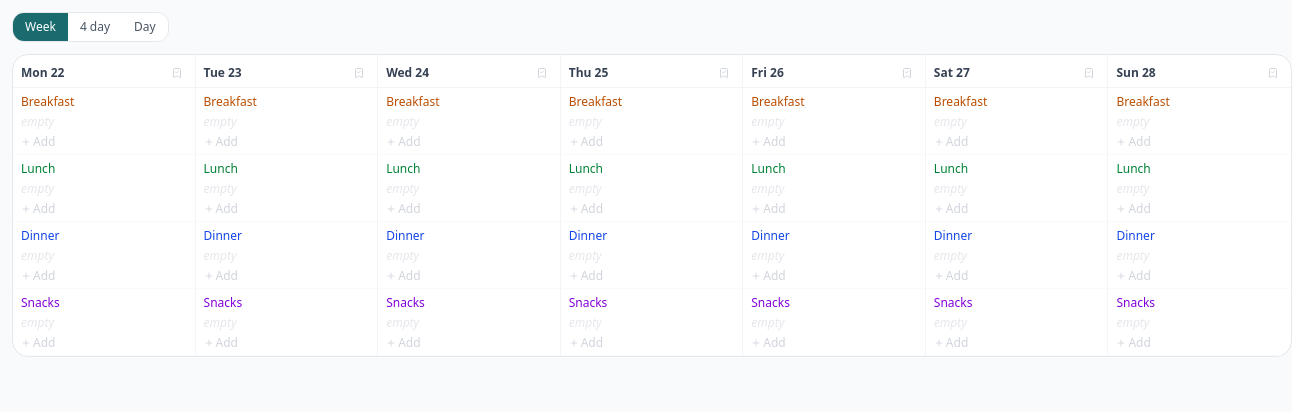
Test: CalendarView › add button opens inline form for product search (AC-054)
This screenshot has width=1292, height=412.
Click the button with aria-label "add item to dinner": point(38, 276) [21, 268, 55, 284]
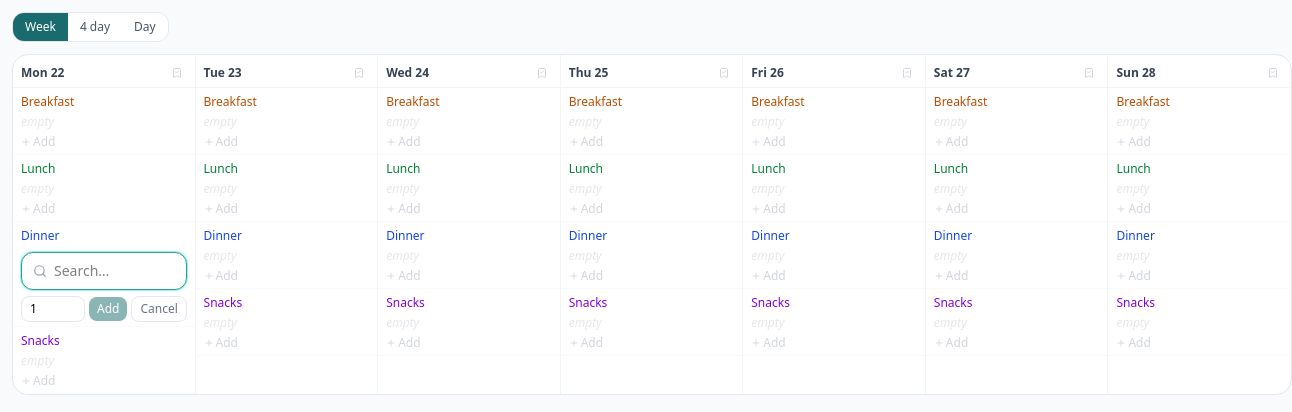
Check: the dropdown named "search for a product" is shown, box [21, 252, 187, 290]
